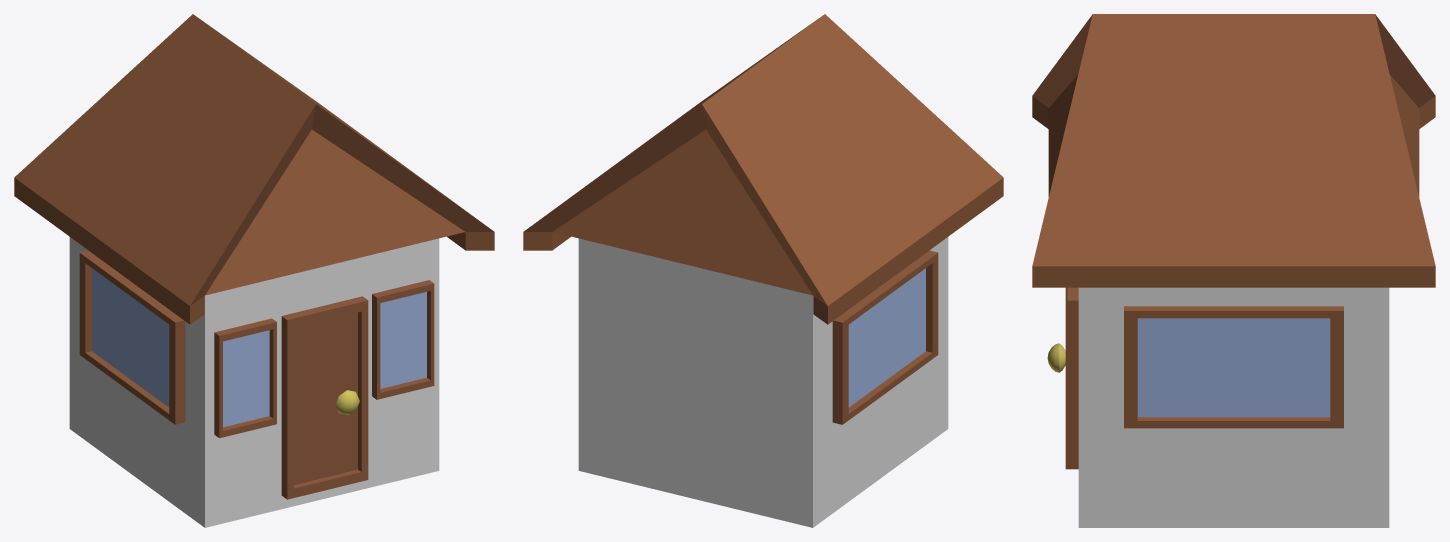
The model's file is House.glb.
3 renders of one model, left to right at view 1: azimuth 30°, elevation 25°; view 2: azimuth 150°, elevation 25°; view 3: azimuth 270°, elevation 25°, orthographic. The views are drawn at different scales.
Parts seen in each view (by area): view 1: Roofn't, Roof; view 2: Roofn't, Roof; view 3: Roof, Roofn't.
Part boxes in pixels (box(x1,y1,x2,y2)): Roofn't: box(69, 237, 439, 527); Roof: box(14, 14, 494, 324); Roofn't: box(578, 237, 948, 527); Roof: box(523, 14, 1003, 324); Roof: box(1032, 14, 1435, 287); Roofn't: box(1047, 287, 1389, 527).
Bounding box in the file's own units: 2.6 × 3.19 × 2.6.
